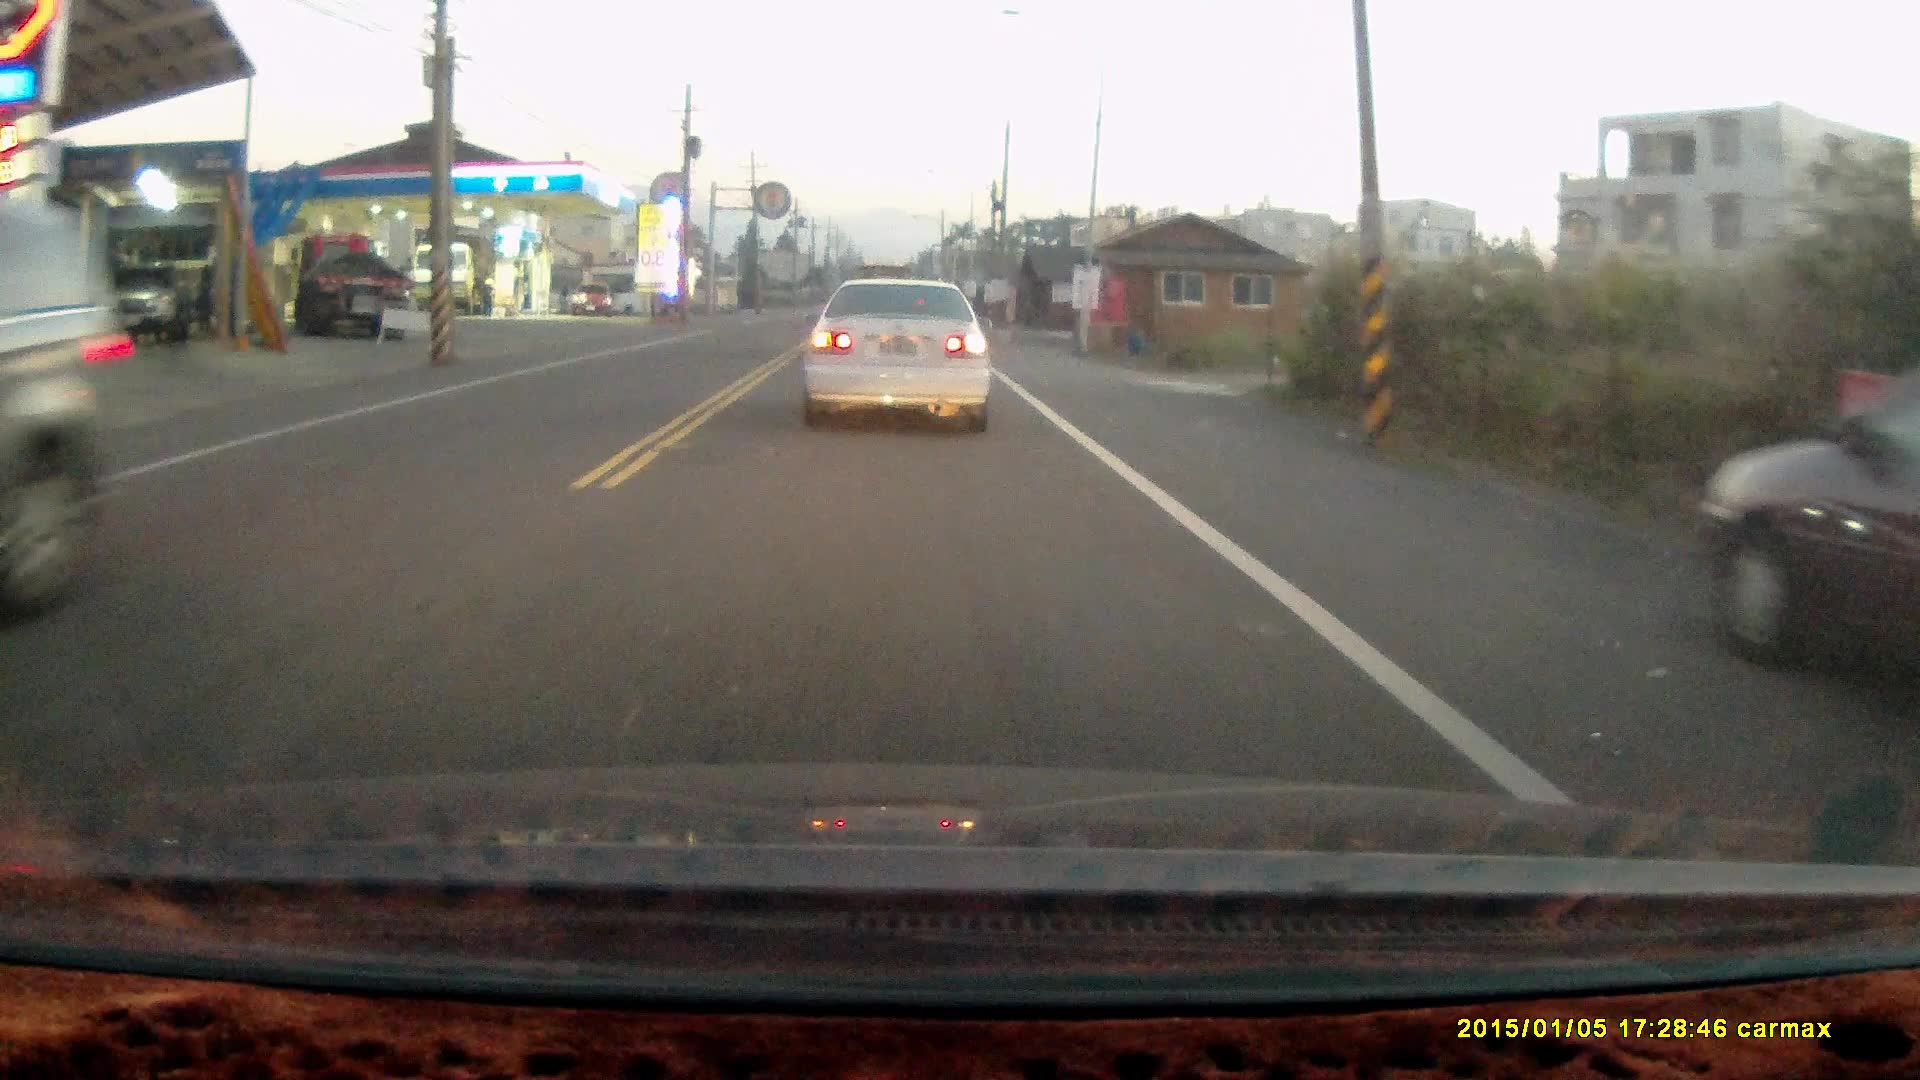pedestrian: (477, 269, 497, 313)
vehicle: (1702, 392, 1920, 728), (1, 204, 129, 618), (795, 285, 995, 445), (290, 238, 415, 347), (404, 236, 491, 321), (573, 285, 615, 319)
